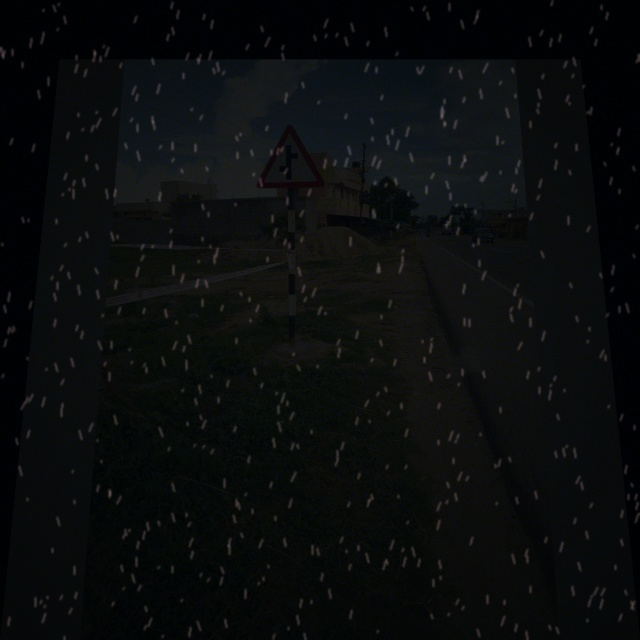Staggered_Intersection: (253, 121, 335, 196)
